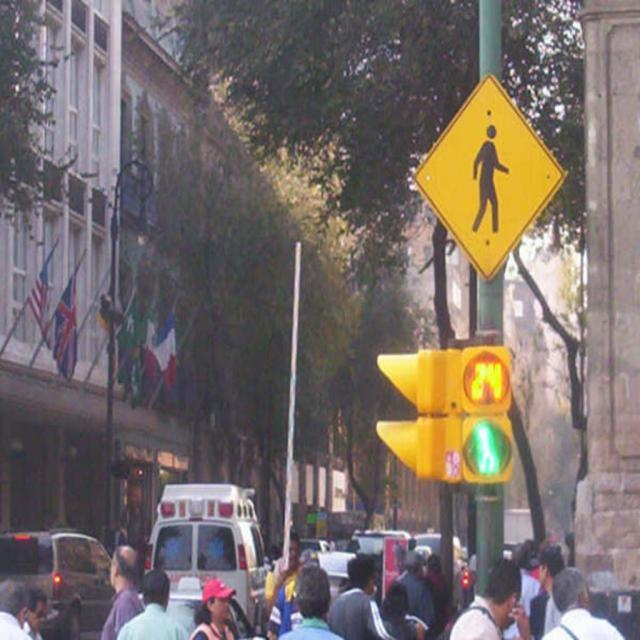traffic light: (452, 346, 525, 495)
